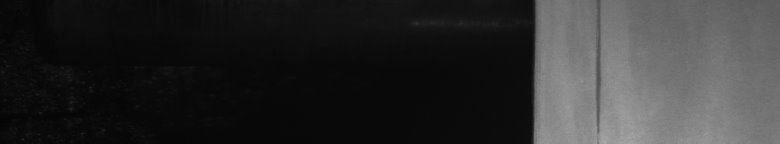hd: (590, 4, 608, 136)
